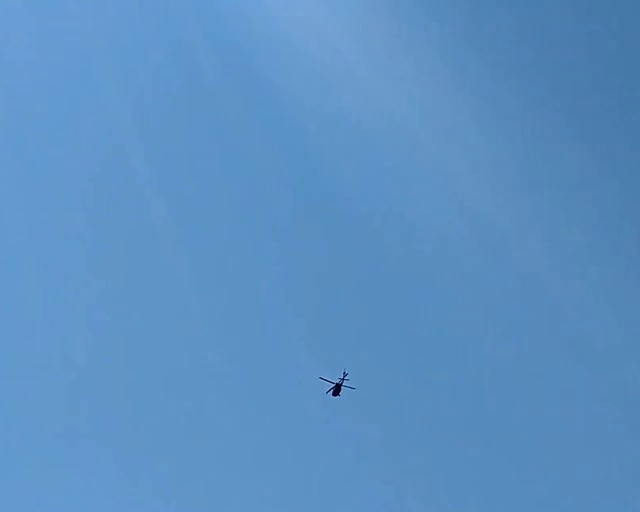HELICOPTER: (318, 367, 354, 397)
